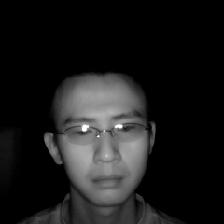normal: (41, 64, 157, 206)
